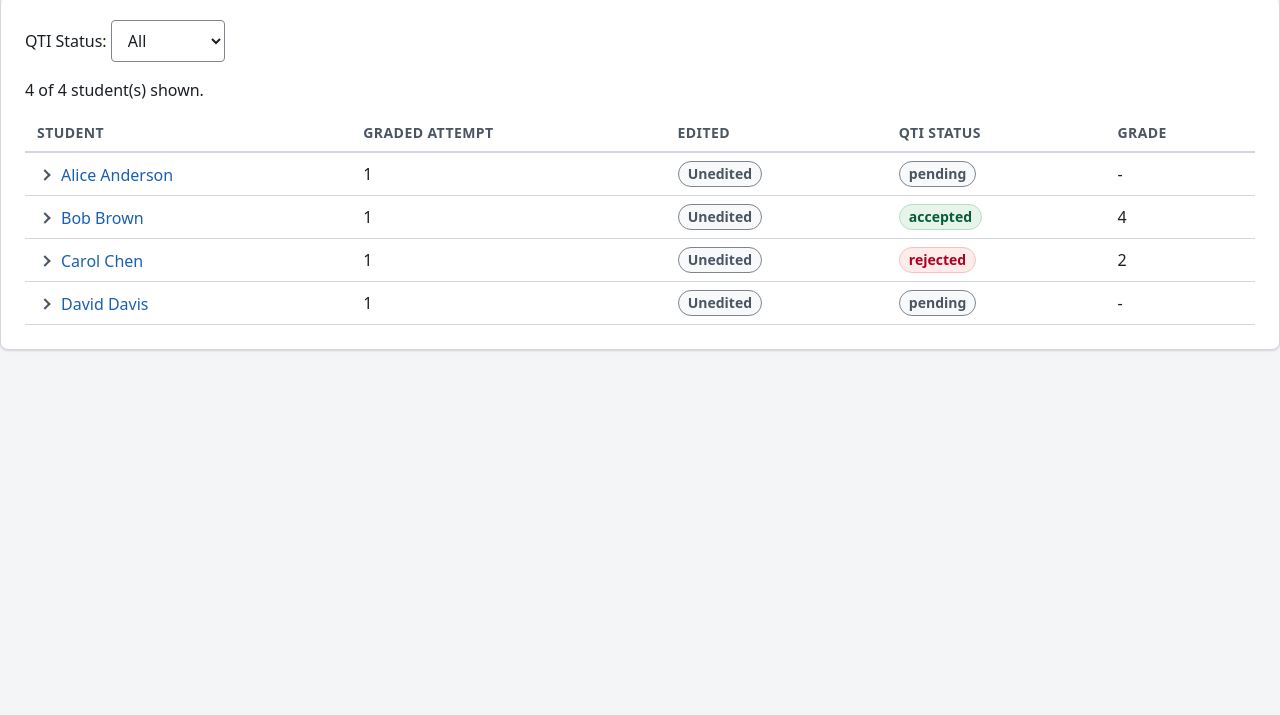
Test: Queue › only expands one row at a time, auto-saving the previous row's draft when a different row is expanded
Click the button "Alice Anderson". click: point(105, 175)
box: top-left (37, 163), bottom-right (173, 187)
(page scrolled)
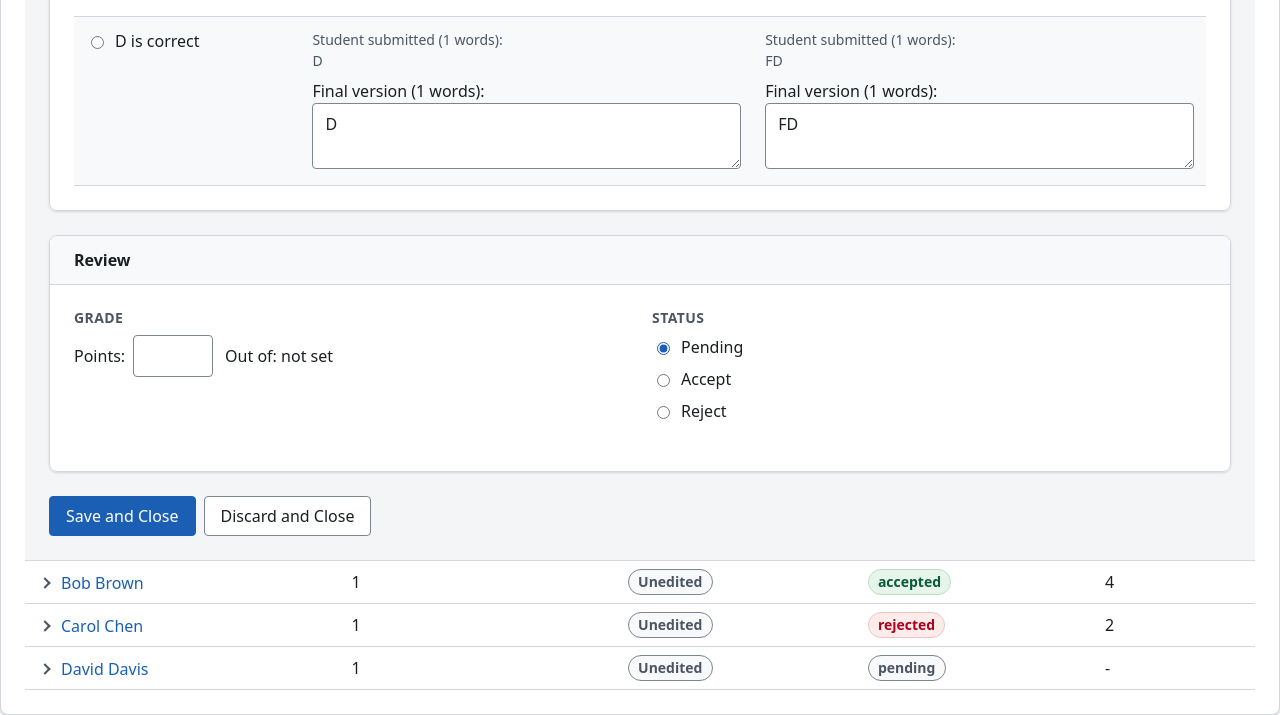
Type "3" into the number field labelled "Points:". click: point(173, 356)
box: top-left (133, 335), bottom-right (213, 377)
(page scrolled)
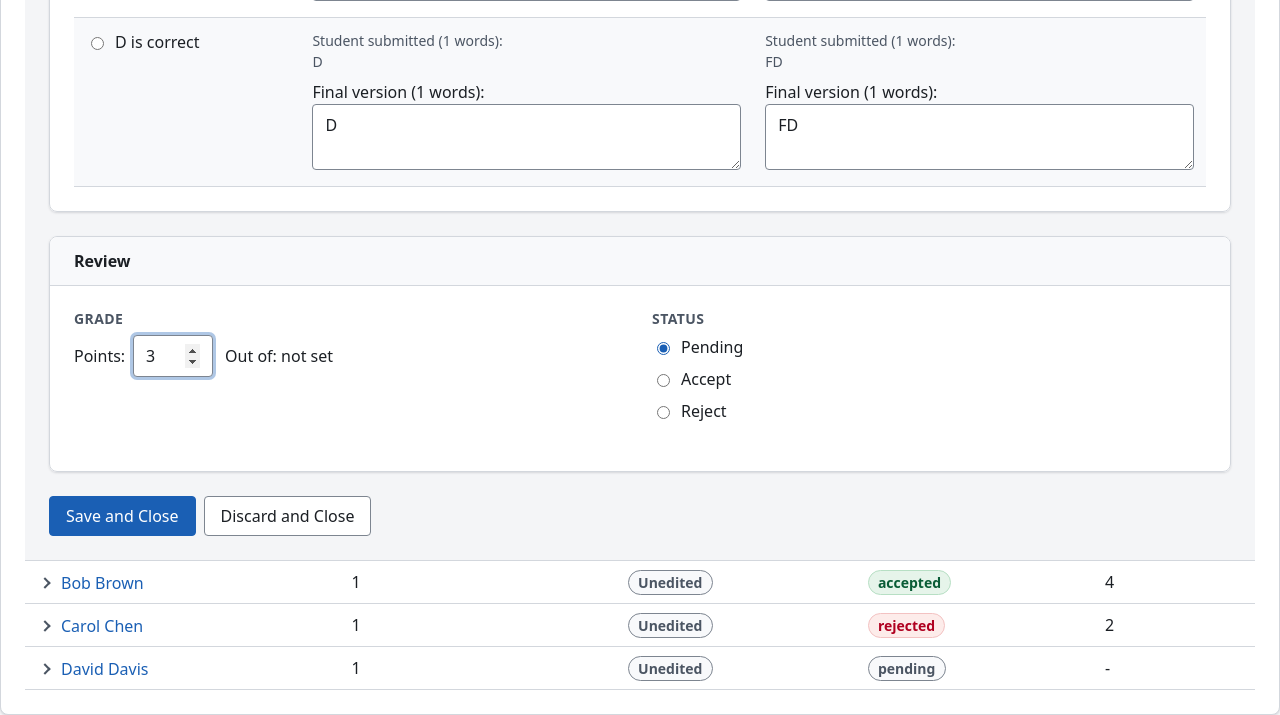
Click the button "Bob Brown". click: point(90, 584)
box: top-left (37, 572), bottom-right (144, 596)
(page scrolled)
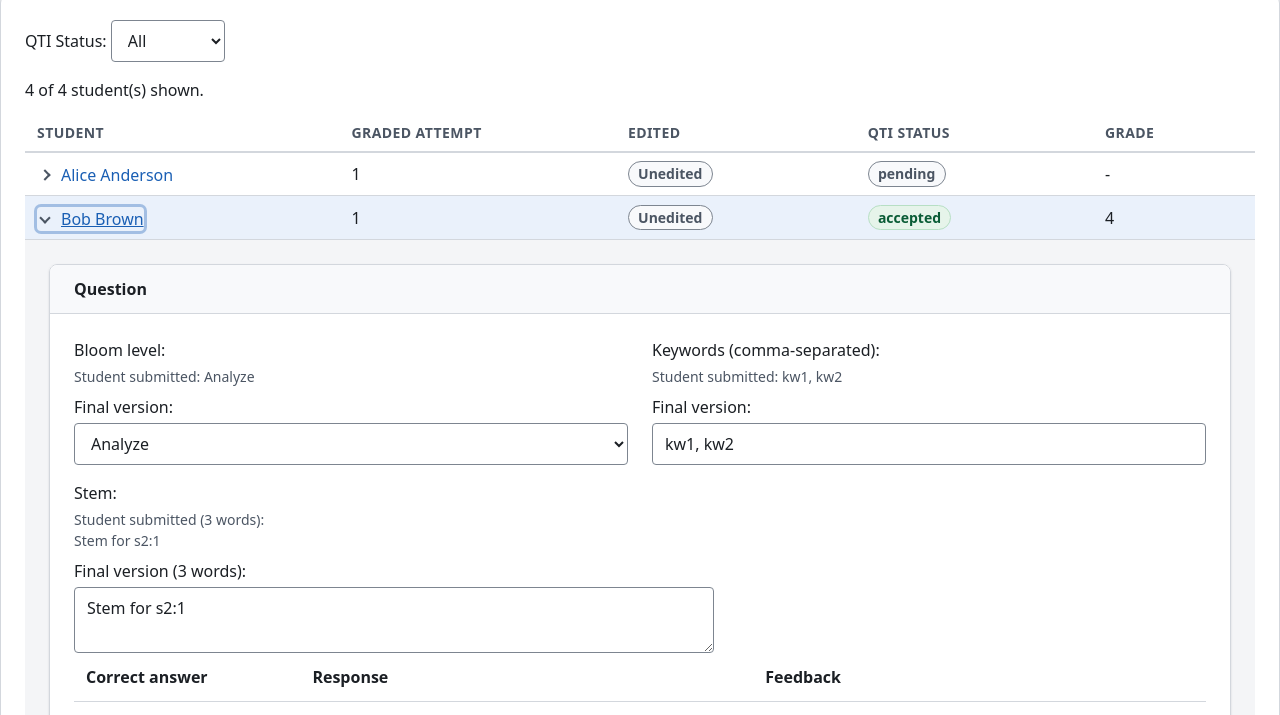
Expected: the text box labelled "Stem:" holds "Stem for s2:1", top-left (74, 587), bottom-right (714, 653)
